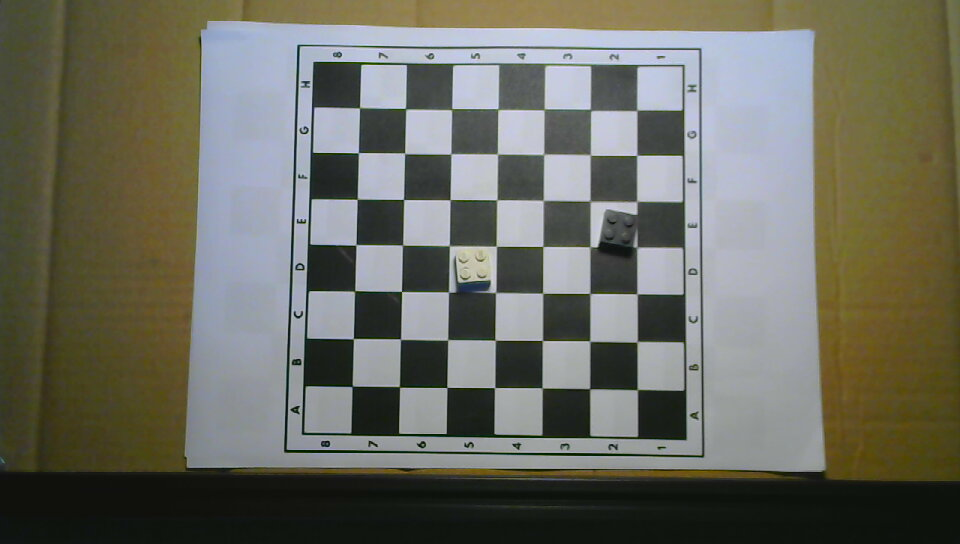bp: (598, 208, 639, 251)
wp: (453, 246, 493, 288)
